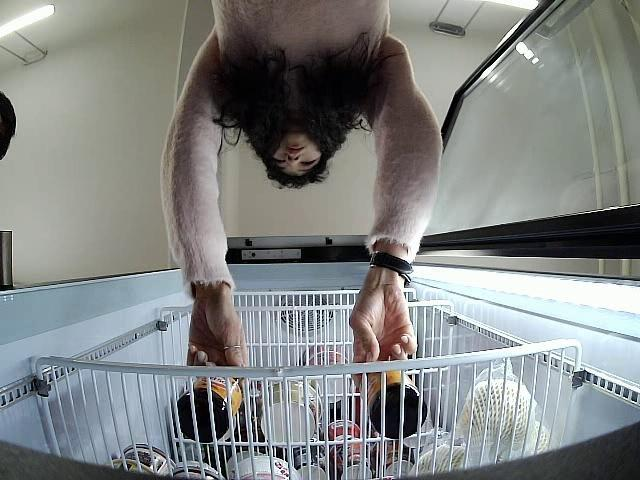17_vita500: (358, 356, 428, 438), (175, 364, 246, 442)
